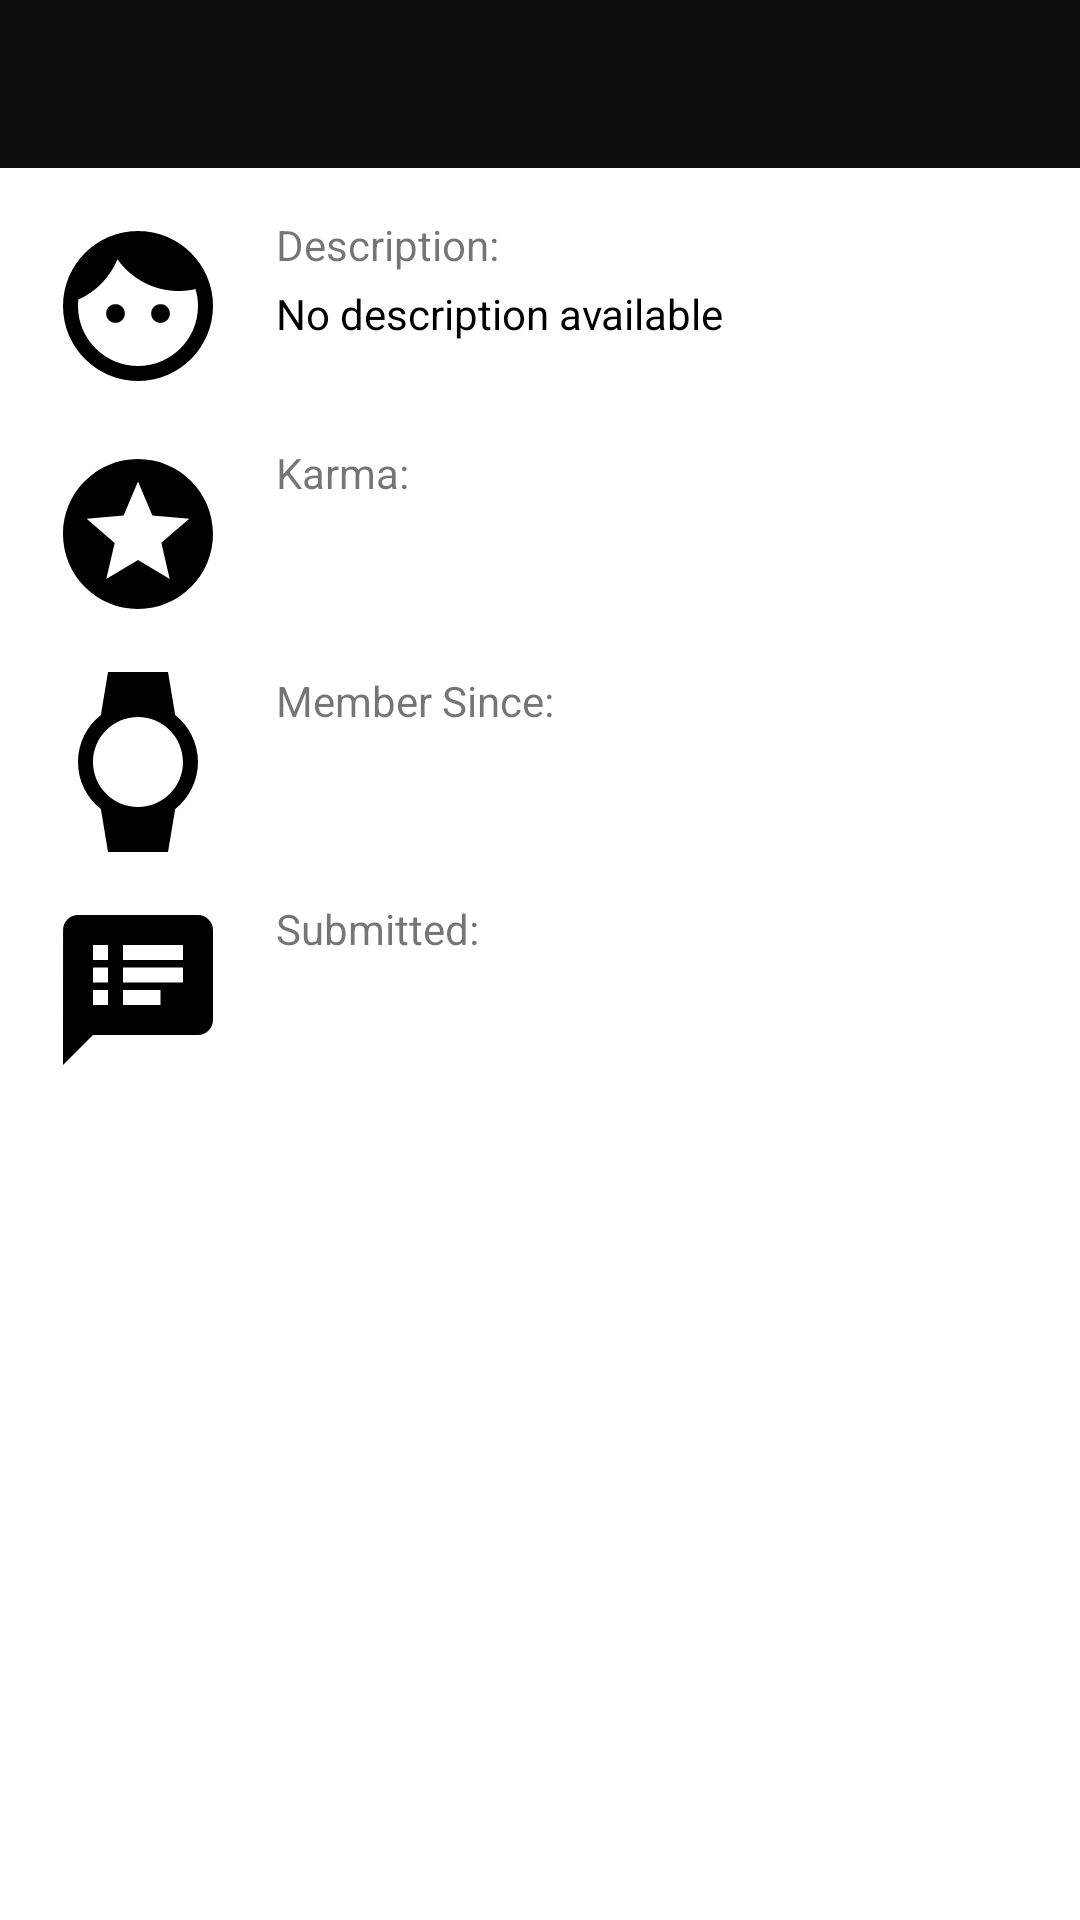

Icon click points for this 1080×1920 phone screenshot, format (x,y):
face: (138,306)
speaker notes: (138,990)
stars: (138,534)
watch: (138,762)
